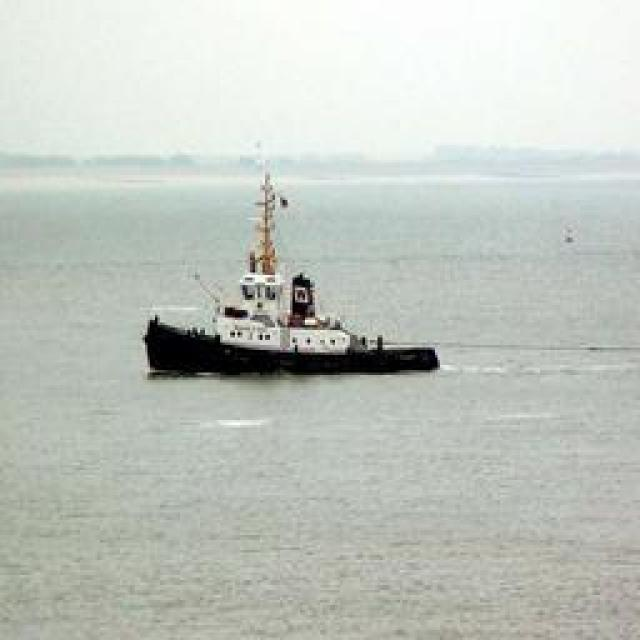CIV_Ship: (145, 160, 440, 382)
